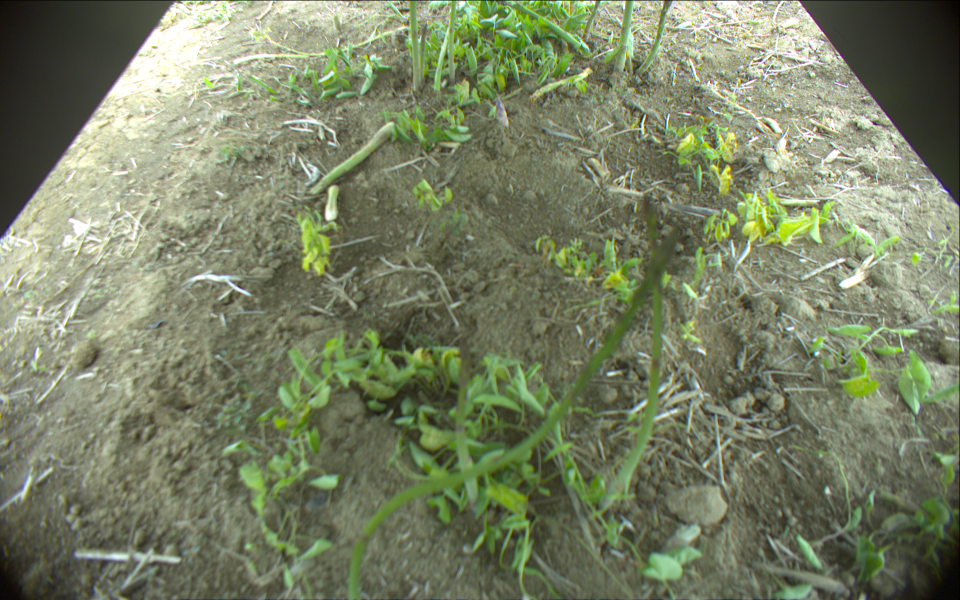aspa: (340, 232, 682, 600), (597, 193, 667, 513), (310, 122, 398, 198), (454, 340, 484, 507), (510, 1, 588, 53), (636, 1, 673, 76), (529, 69, 594, 101), (617, 1, 635, 78), (431, 19, 449, 90), (407, 1, 421, 88), (447, 1, 458, 88), (322, 184, 340, 221), (585, 1, 599, 42), (420, 22, 430, 79)
